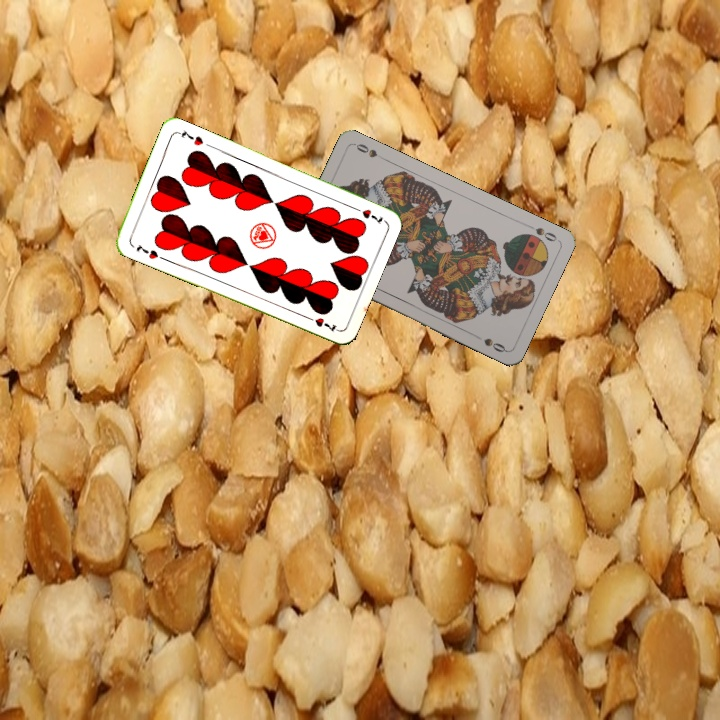H7: (348, 203, 387, 227), (132, 240, 161, 262)
SO: (523, 220, 560, 244)
